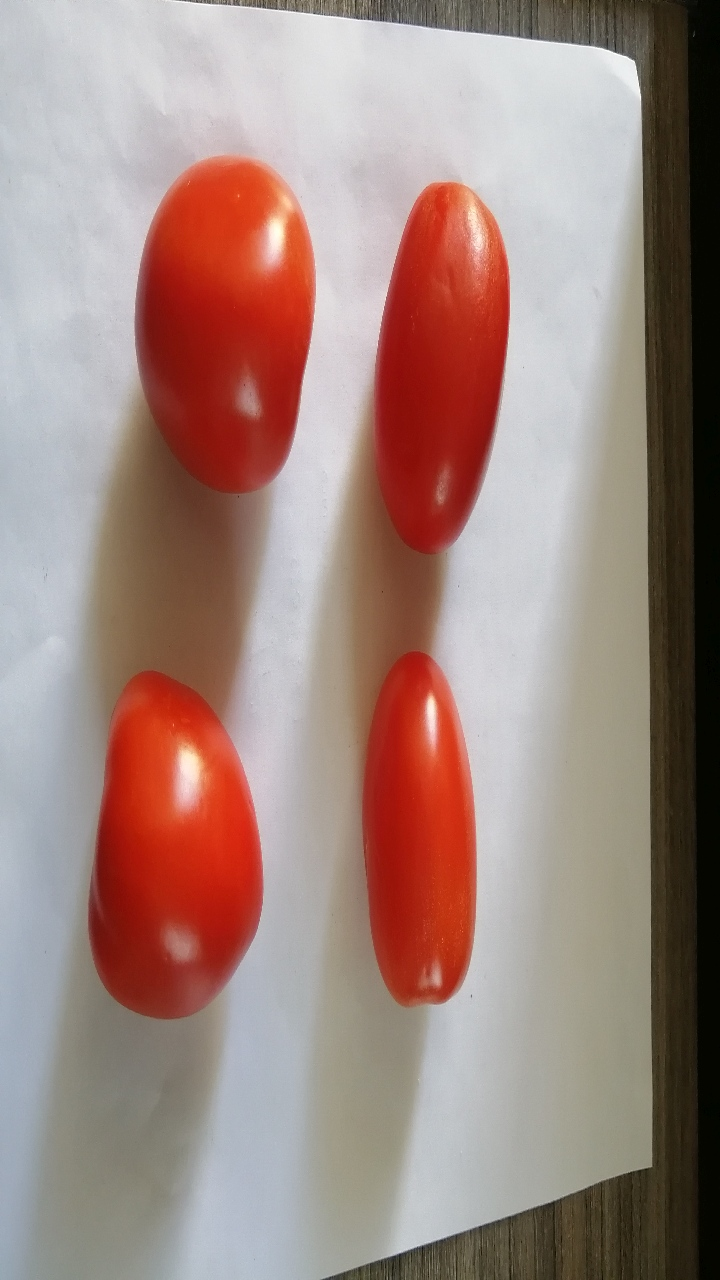tomateRojo: (114, 115, 340, 519), (68, 652, 284, 1031), (334, 629, 512, 1019), (363, 159, 526, 577)
